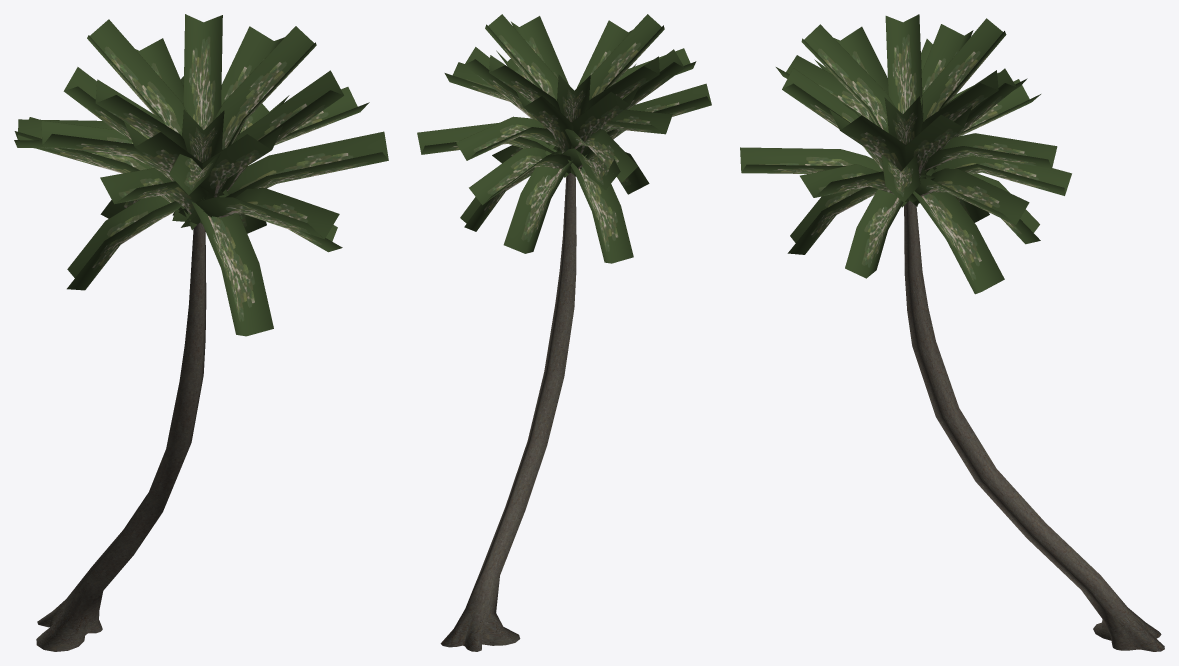
Rendered from Palm.fbx.
3 renders of one model, left to right at view 1: azimuth 30°, elevation 25°; view 2: azimuth 150°, elevation 25°; view 3: azimuth 270°, elevation 25°, orthographic. The views are drawn at different scales.
Parts seen in each view (by area): view 1: Palm; view 2: Palm; view 3: Palm.
Boxes of the visible parts, x1,y1,x2,y2 form: Palm: (14,14,388,651); Palm: (417,14,711,651); Palm: (740,14,1164,651).
Size of the model in its own units: 382 by 828 by 536.
